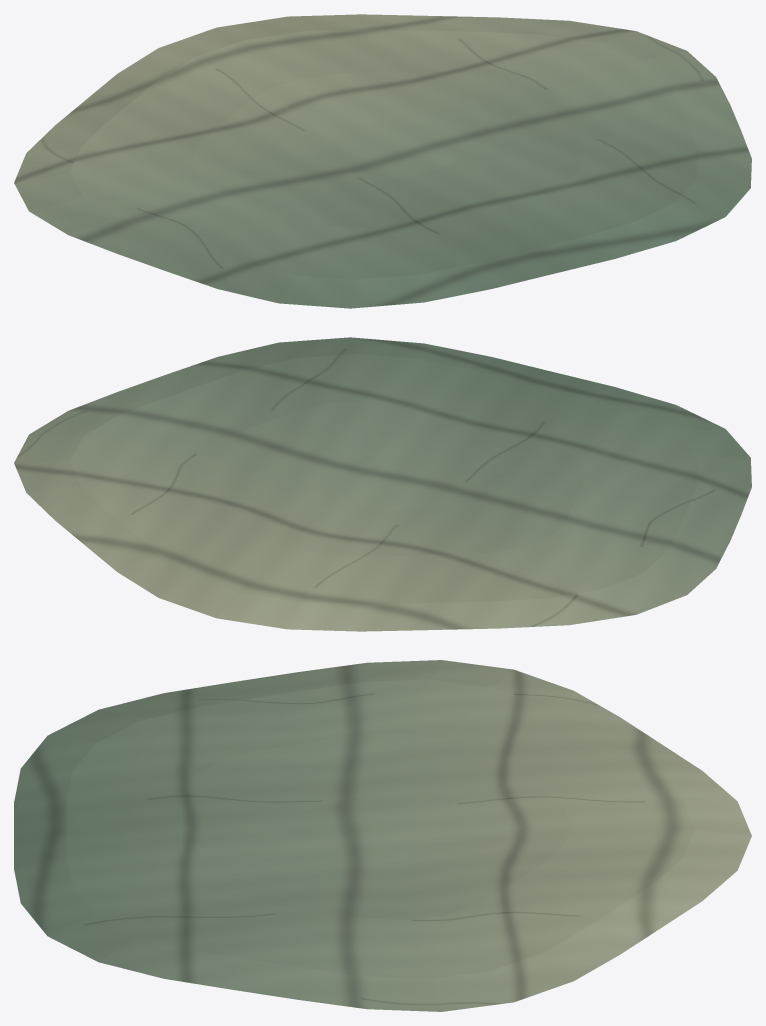
File: quarry_site.glb
3 renders of one model, top to bottom at view 1: azimuth 30°, elevation 25°; view 2: azimuth 150°, elevation 25°; view 3: azimuth 270°, elevation 25°, orthographic. The views are drawn at different scales.
Visible parts, largest first — view 1: QuarrySite; view 2: QuarrySite; view 3: QuarrySite.
Part boxes in pixels (bbox=[...]): QuarrySite: bbox=[14, 14, 751, 308]; QuarrySite: bbox=[14, 337, 751, 631]; QuarrySite: bbox=[14, 660, 751, 1011].
Bounding box in the file's own units: 1.78 × 0.022 × 1.57.
1 material, 1 textured.
